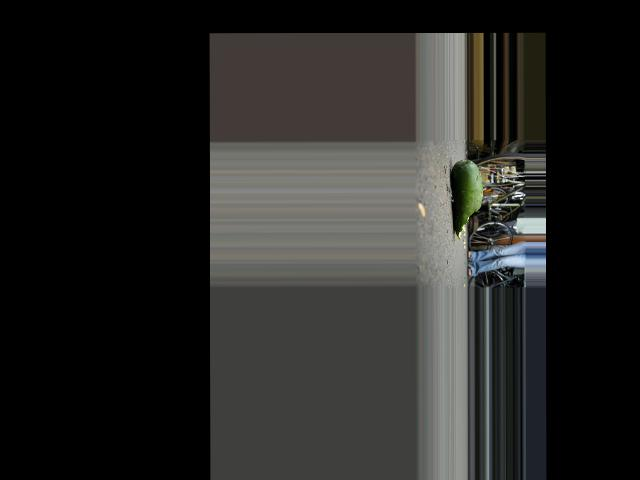cucumber: (451, 160, 482, 240)
